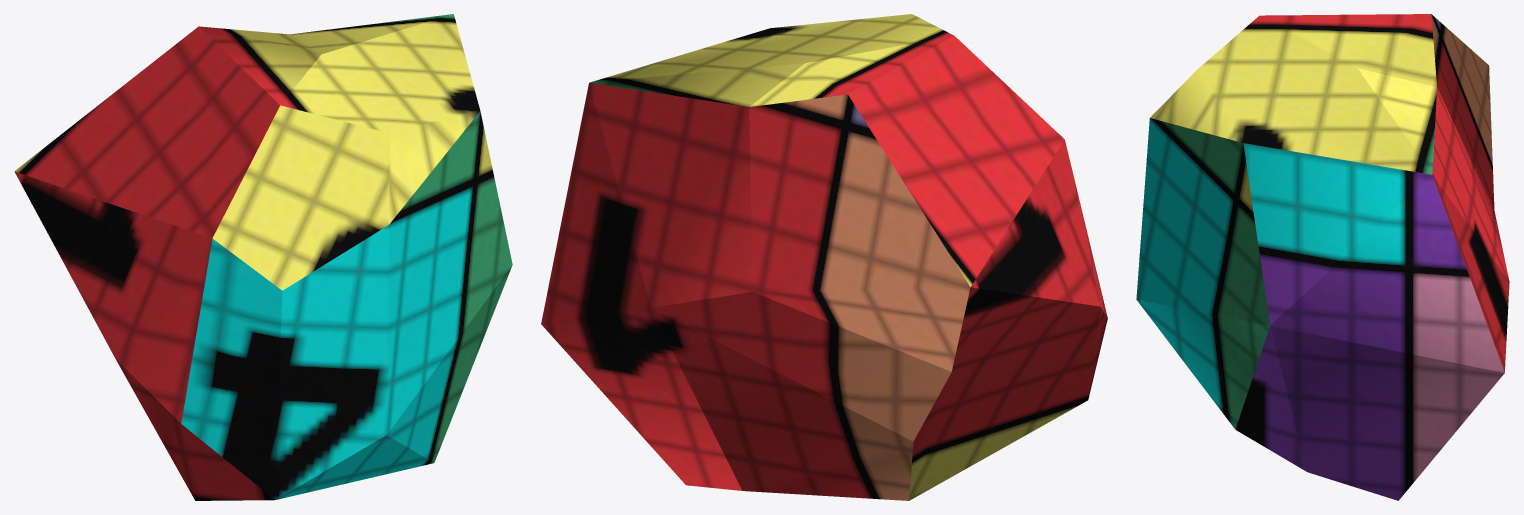
Rendered from lprock5.FBX.
The picture shows the model from 3 angles, left to right: view 1: azimuth 30°, elevation 25°; view 2: azimuth 150°, elevation 25°; view 3: azimuth 270°, elevation 25°; orthographic projection. The views are drawn at different scales.
Parts seen in each view (by area): view 1: rock5; view 2: rock5; view 3: rock5.
Boxes of the visible parts, bbox=[...] form: rock5: bbox=[14, 14, 512, 500]; rock5: bbox=[541, 14, 1107, 500]; rock5: bbox=[1136, 14, 1509, 500].
Bounding box in the file's own units: 78.39 × 77.18 × 64.11.
Materials: 1 (1 with a texture image).
